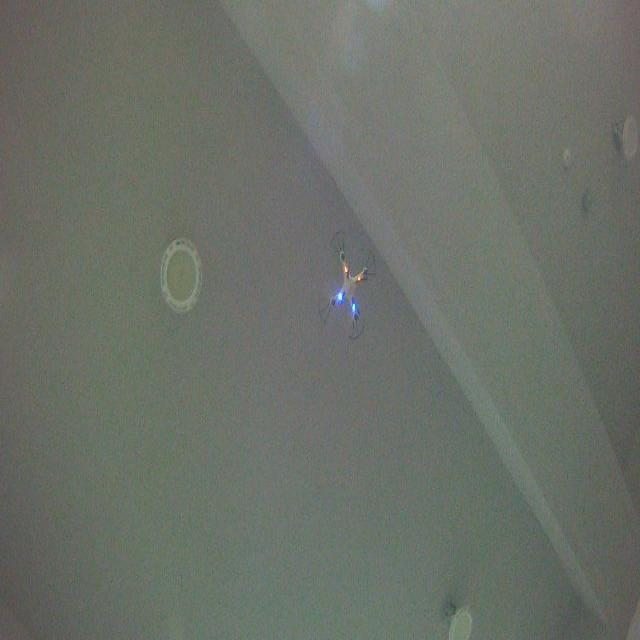drone: (316, 228, 379, 344)
